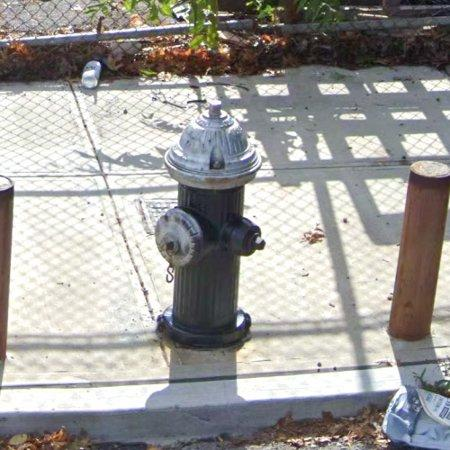a fire hydrant: (156, 101, 266, 348)
